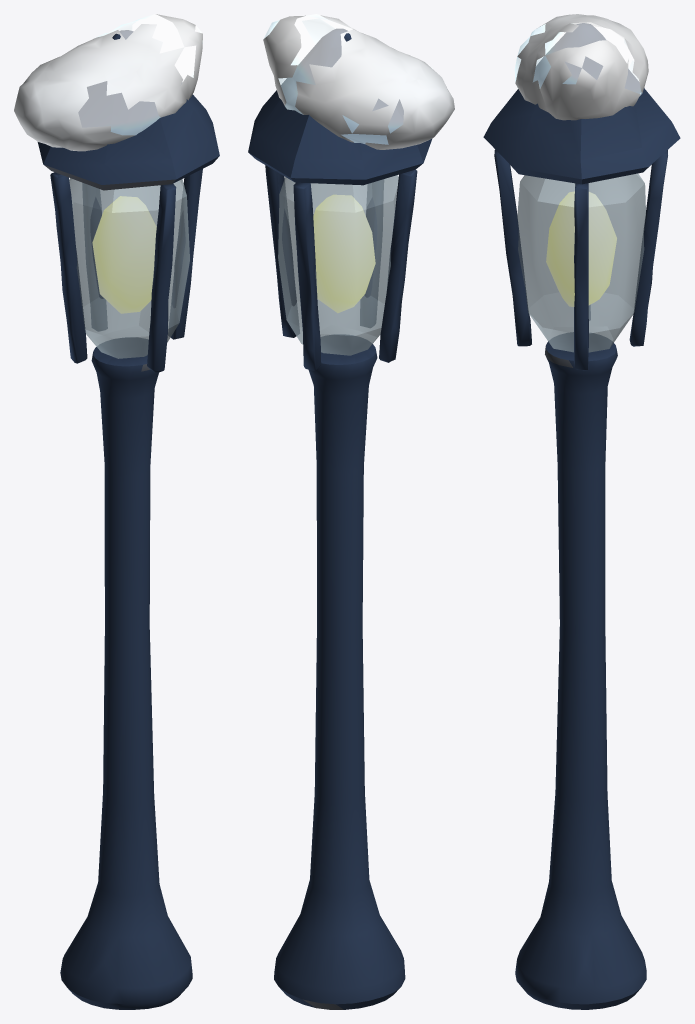
The model's file is frost_lantern_lod1.glb.
3 views of the same model, side by side, from view 1: azimuth 30°, elevation 25°; view 2: azimuth 150°, elevation 25°; view 3: azimuth 270°, elevation 25° (orthographic).
Visible parts, largest first — view 1: frost_lantern.001, flame.001; view 2: frost_lantern.001, flame.001; view 3: frost_lantern.001, flame.001.
Boxes of the visible parts, x1=… form: frost_lantern.001: x1=14, y1=14, x2=219, y2=1009; flame.001: x1=92, y1=196, x2=156, y2=313; frost_lantern.001: x1=248, y1=14, x2=454, y2=1009; flame.001: x1=313, y1=194, x2=375, y2=312; frost_lantern.001: x1=483, y1=14, x2=680, y2=1009; flame.001: x1=546, y1=191, x2=616, y2=306.
Bounding box in the file's own units: 4.52 × 22 × 4.05.
